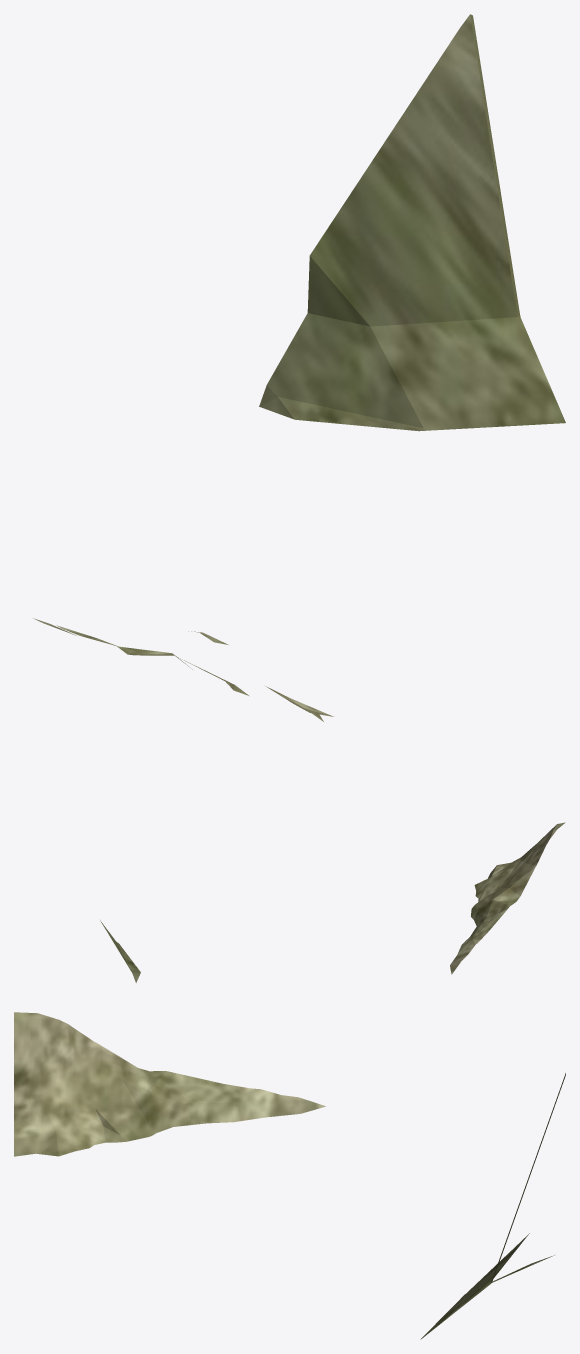
3 views of the same model, one above another, from view 1: azimuth 30°, elevation 25°; view 2: azimuth 150°, elevation 25°; view 3: azimuth 270°, elevation 25° (orthographic). The views are drawn at different scales.
Size of the model in its own units: 2.95 by 1.57 by 2.95.
1 material, 1 textured.
